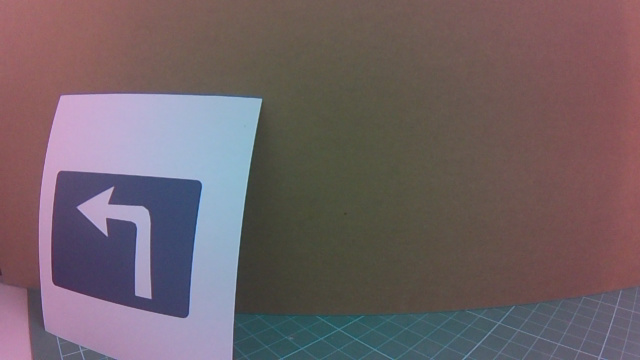left: (57, 166, 249, 334)
